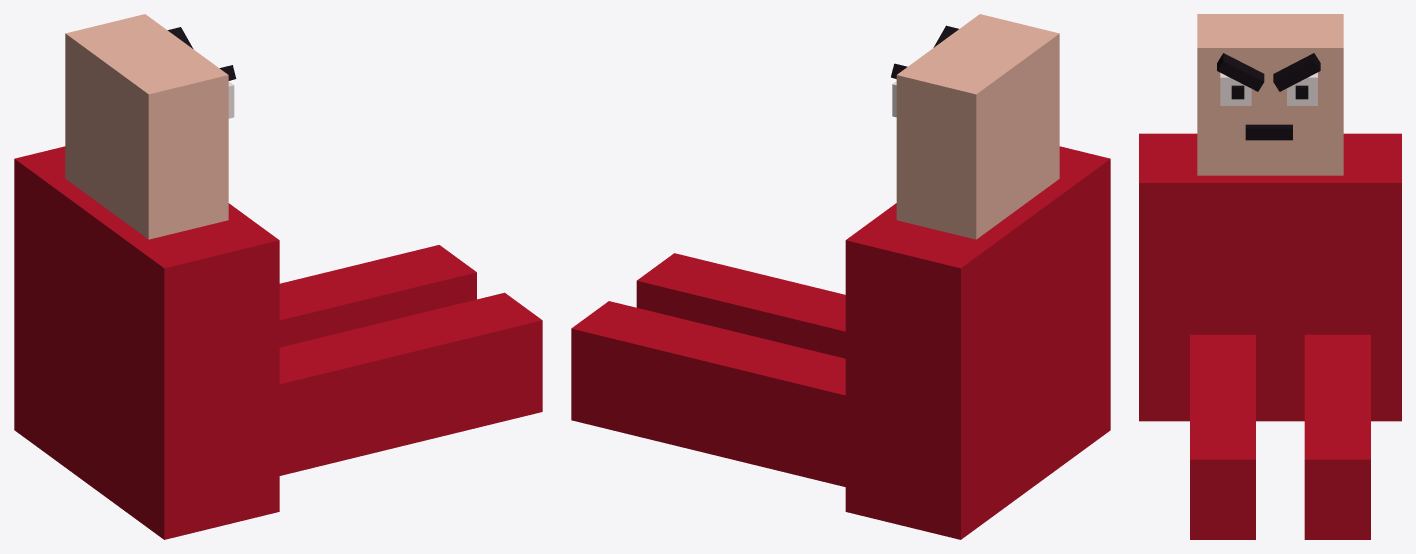
The model's file is Thing 1.fbx.
3 views of the same model, side by side, from view 1: azimuth 30°, elevation 25°; view 2: azimuth 150°, elevation 25°; view 3: azimuth 270°, elevation 25° (orthographic). The views are drawn at different scales.
Visible parts, largest first — view 1: Cube.002, Cube.005, Cube.004; view 2: Cube.002, Cube.004, Cube.005; view 3: Cube.002, Cube.004, Cube.005, Cube.009, Cube.010.
Part boxes in pixels (<box>): Cube.002: <box>14,14,279,539</box>; Cube.005: <box>279,292,542,475</box>; Cube.004: <box>279,245,476,347</box>; Cube.002: <box>845,14,1110,539</box>; Cube.004: <box>571,301,845,486</box>; Cube.005: <box>636,253,845,358</box>; Cube.002: <box>1139,14,1401,421</box>; Cube.004: <box>1304,334,1370,539</box>; Cube.005: <box>1190,334,1255,539</box>; Cube.009: <box>1217,53,1264,91</box>; Cube.010: <box>1273,53,1320,91</box>.
Size of the model in its own units: 1.57 by 1.53 by 1.
